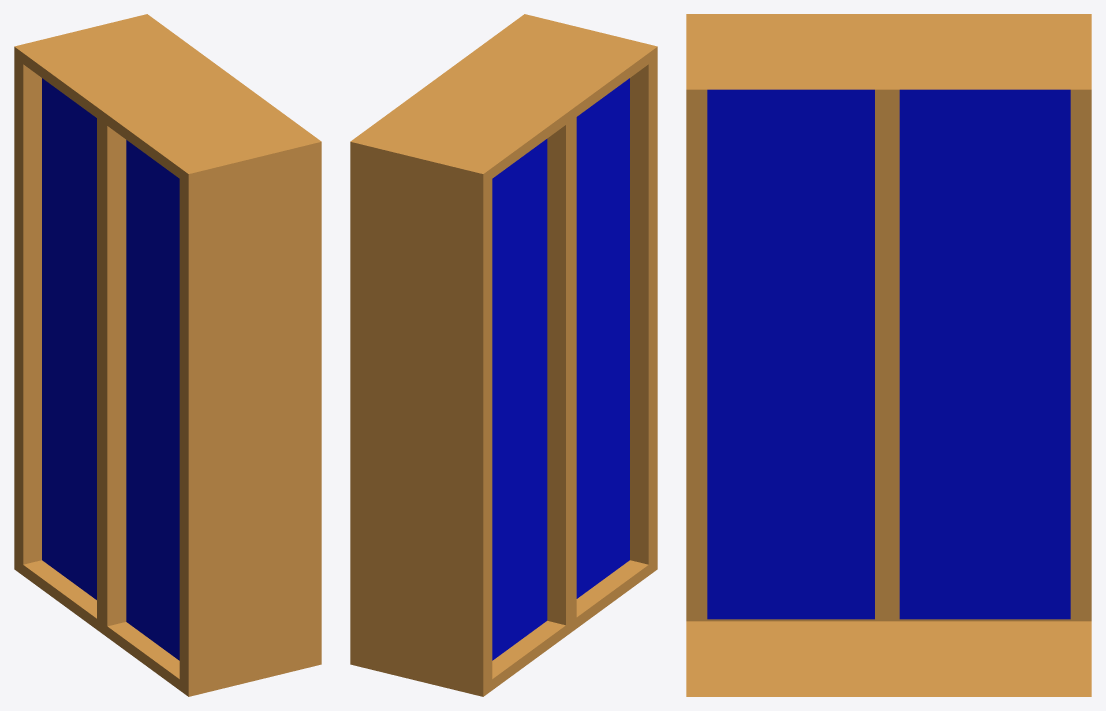
File: Window.fbx
3 views of the same model, side by side, from view 1: azimuth 30°, elevation 25°; view 2: azimuth 150°, elevation 25°; view 3: azimuth 270°, elevation 25° (orthographic). The views are drawn at different scales.
Parts seen in each view (by area): view 1: Window.001; view 2: Window.001; view 3: Window.001.
Boxes of the visible parts, x1=… form: Window.001: x1=14, y1=14, x2=321, y2=696; Window.001: x1=350, y1=14, x2=657, y2=696; Window.001: x1=686, y1=14, x2=1091, y2=696.
Size of the model in its own units: 53.31 by 200 by 121.
